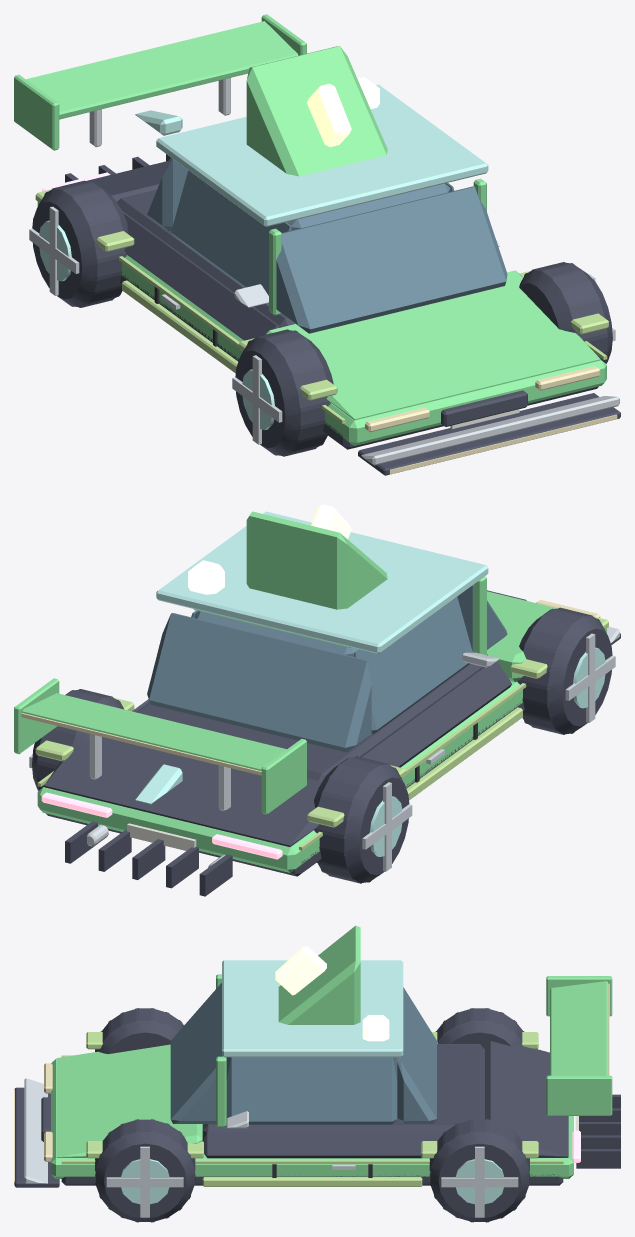
Rendered from thunder_thimble.fbx.
3 renders of one model, top to bottom at view 1: azimuth 30°, elevation 25°; view 2: azimuth 150°, elevation 25°; view 3: azimuth 270°, elevation 25°, orthographic. The views are drawn at different scales.
Parts seen in each view (by area): view 1: Body, Glass, Accent2, Trim, Wheel_FR, Wheel_RR, Accent, Wheel_FL, Accent3, Metal, Light, Light4 (+1 smaller); view 2: Body, Glass, Trim, Accent2, Wheel_RR, Wheel_FR, Accent, Metal, Wheel_RL, Metal2, Light2, Light (+4 smaller); view 3: Body, Trim, Glass, Accent2, Wheel_FL, Wheel_RL, Accent, Metal, Wheel_FR, Wheel_RR, Accent3, Metal2 (+3 smaller).
Boxes of the visible parts, box(x1,y1,x2,y2) form: Body: box(14, 14, 606, 445); Glass: box(147, 157, 507, 333); Accent2: box(135, 84, 488, 226); Trim: box(65, 154, 620, 475); Wheel_FR: box(235, 329, 333, 456); Wheel_RR: box(32, 180, 127, 307); Accent: box(35, 189, 608, 423); Wheel_FL: box(519, 262, 612, 363); Accent3: box(234, 240, 619, 465); Metal: box(29, 78, 615, 444); Light: box(365, 366, 617, 474); Light4: box(307, 83, 351, 147); Body: box(14, 511, 606, 872); Glass: box(147, 584, 507, 752); Trim: box(44, 590, 620, 896); Accent2: box(135, 511, 488, 804); Wheel_RR: box(314, 756, 409, 883); Wheel_FR: box(517, 607, 612, 734); Accent: box(35, 616, 608, 850); Metal: box(29, 633, 615, 871); Wheel_RL: box(32, 689, 124, 790); Metal2: box(369, 647, 605, 856); Light2: box(41, 792, 282, 859); Light: box(21, 599, 600, 775); Body: box(51, 925, 612, 1178); Trim: box(14, 1041, 620, 1187); Glass: box(170, 983, 436, 1124); Accent2: box(222, 960, 403, 1057); Wheel_FL: box(95, 1119, 195, 1222); Wheel_RL: box(429, 1119, 529, 1222); Accent: box(61, 1032, 563, 1186); Metal: box(106, 1146, 518, 1217); Wheel_FR: box(95, 1008, 183, 1054); Wheel_RR: box(435, 1008, 524, 1048); Accent3: box(24, 1078, 248, 1183); Metal2: box(121, 1159, 504, 1204).
Bounding box in the file's own units: 3 × 2.25 × 5.69.
